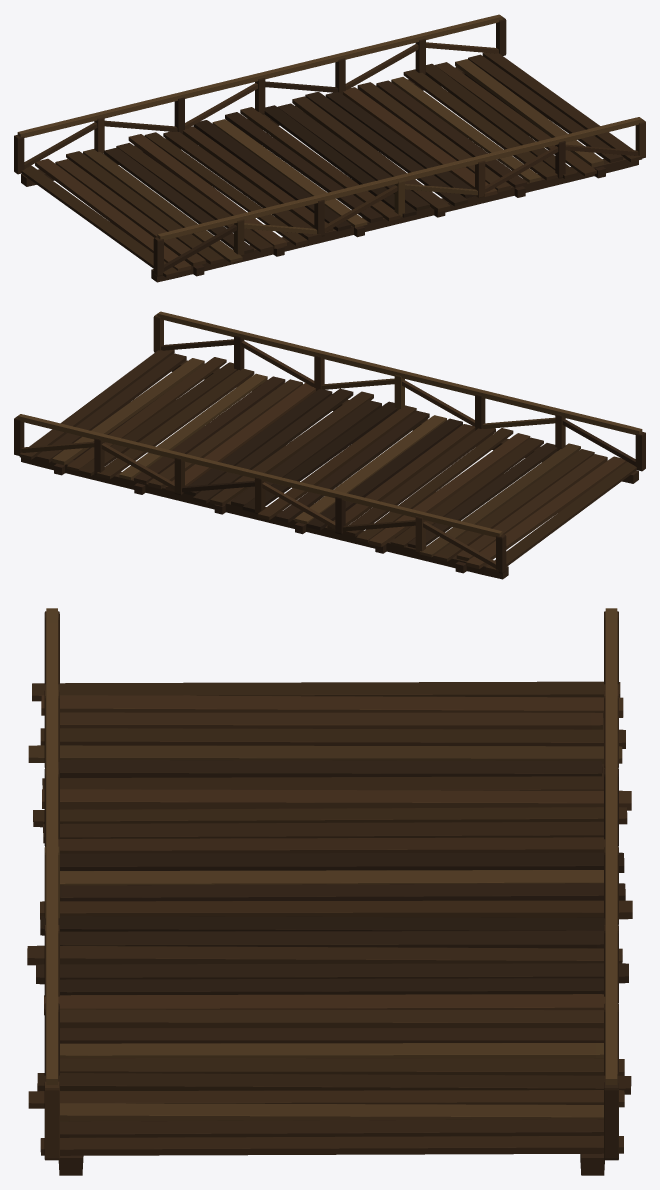
Rendered from bridge.glb.
The picture shows the model from 3 angles, top to bottom: view 1: azimuth 30°, elevation 25°; view 2: azimuth 150°, elevation 25°; view 3: azimuth 270°, elevation 25°; orthographic projection. The views are drawn at different scales.
Visible parts, largest first — view 1: bridge; view 2: bridge; view 3: bridge.
Part boxes in pixels (box(x1,y1,x2,y2)): bridge: box(14, 14, 645, 282); bridge: box(14, 311, 645, 579); bridge: box(27, 608, 632, 1175).
Bounding box in the file's own units: 16.22 × 1.56 × 8.7.
